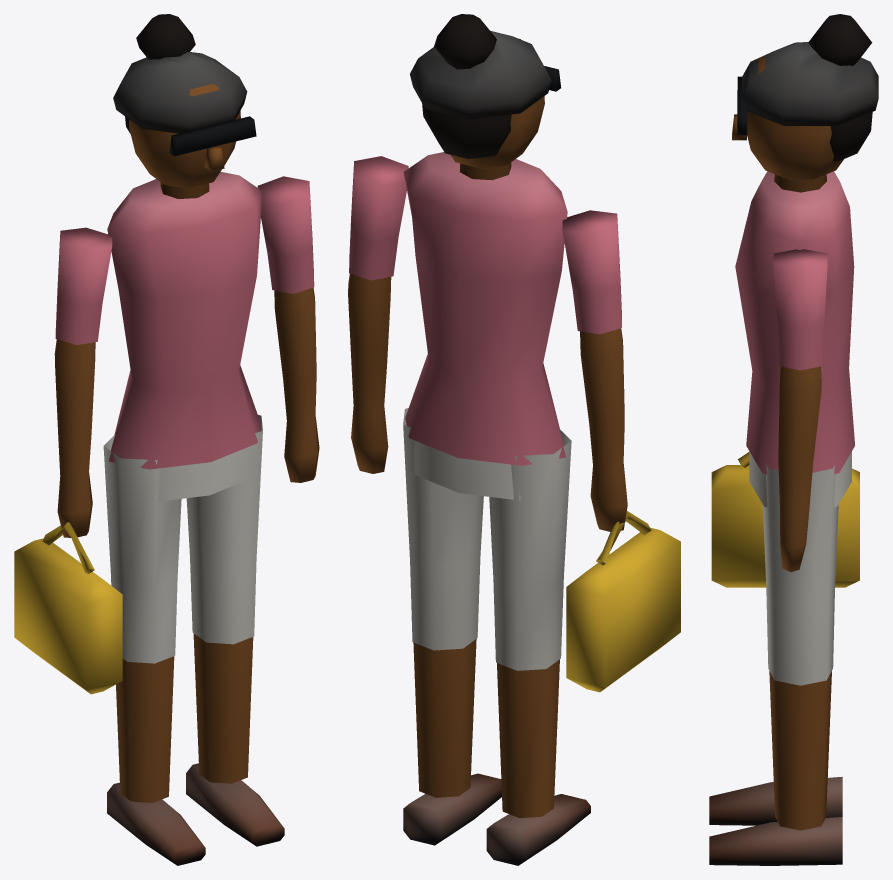
Rendered from peaton_mujer_b.glb.
3 views of the same model, side by side, from view 1: azimuth 30°, elevation 25°; view 2: azimuth 150°, elevation 25°; view 3: azimuth 270°, elevation 25° (orthographic). The views are drawn at different scales.
Parts seen in each view (by area): view 1: peaton_mujer_b; view 2: peaton_mujer_b; view 3: peaton_mujer_b.
Part boxes in pixels (left/top/right/bottom): peaton_mujer_b: left=14, top=14, right=319, bottom=865; peaton_mujer_b: left=348, top=14, right=680, bottom=865; peaton_mujer_b: left=709, top=14, right=878, bottom=865.
Size of the model in its own units: 0.6632 by 1.83 by 0.3429.
